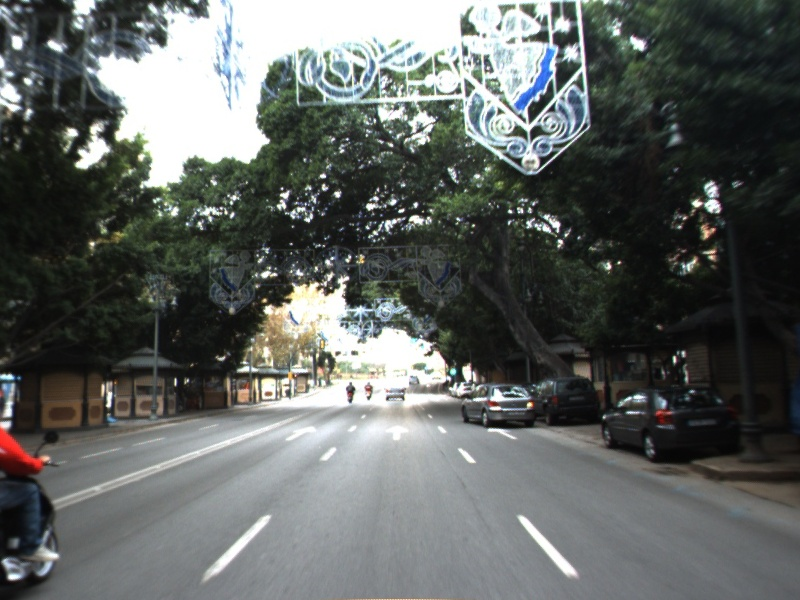STRAIGHT: (283, 424, 318, 442), (485, 425, 521, 441), (382, 423, 412, 442)
